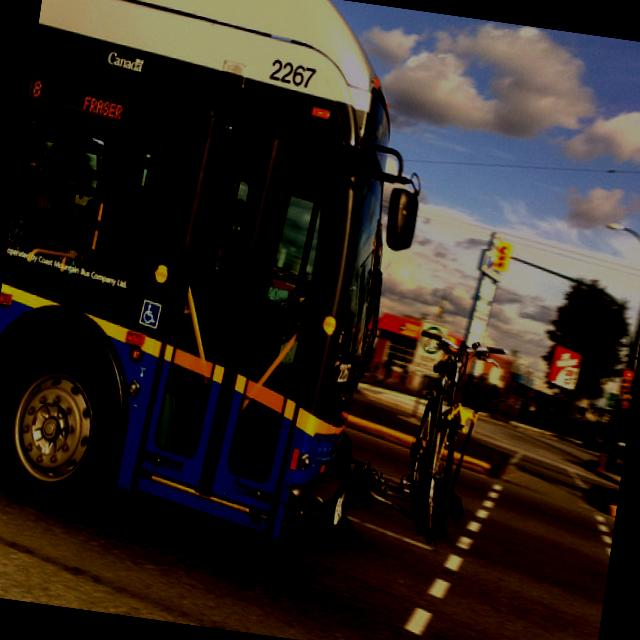Vehicle: (0, 0, 447, 544)
